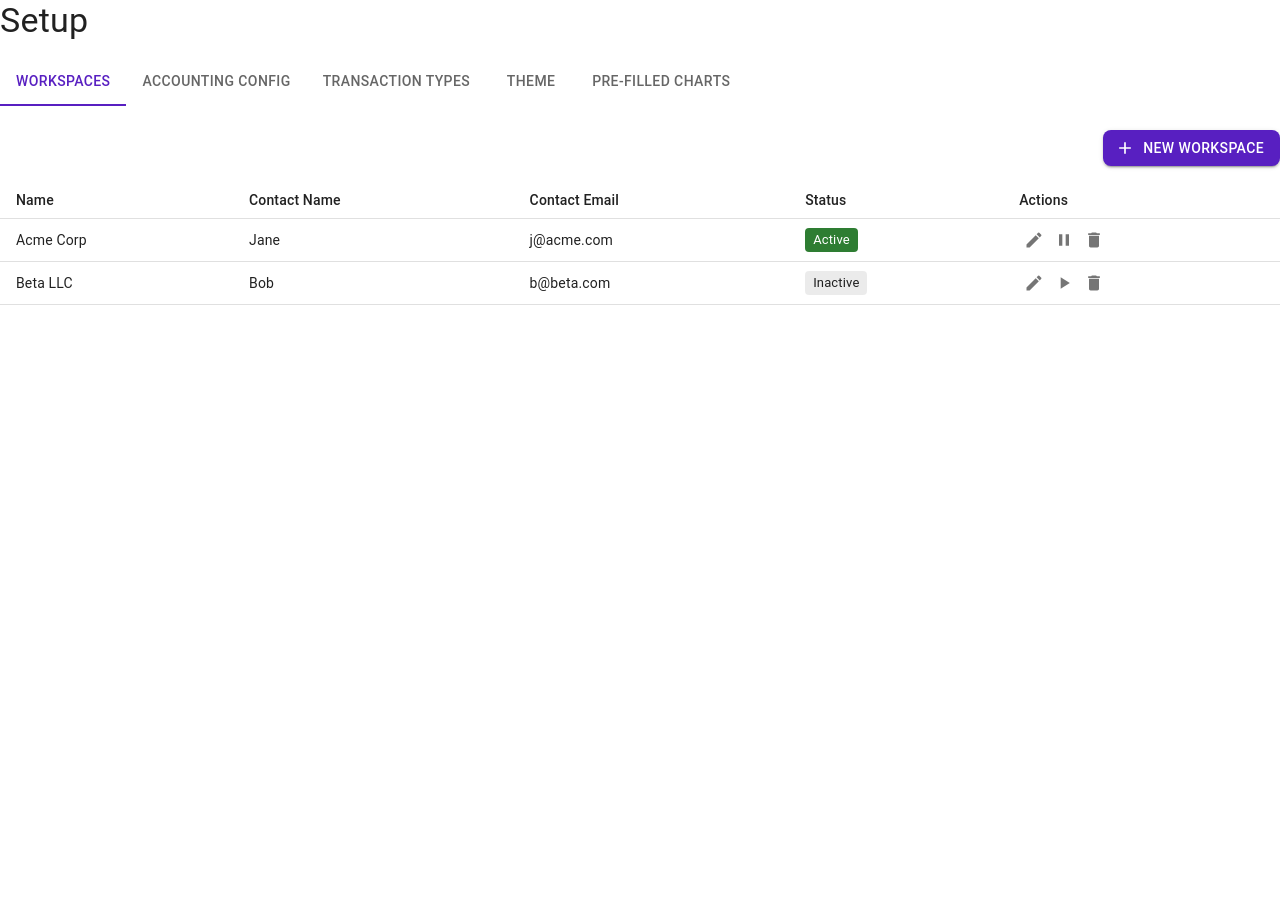
Test: SetupPage — Workspaces tab › opens create dialog when New Workspace is clicked
The image size is (1280, 900).
Click the button with test id "new-workspace-btn" at (1192, 148), box left=1103, top=130, right=1279, bottom=166
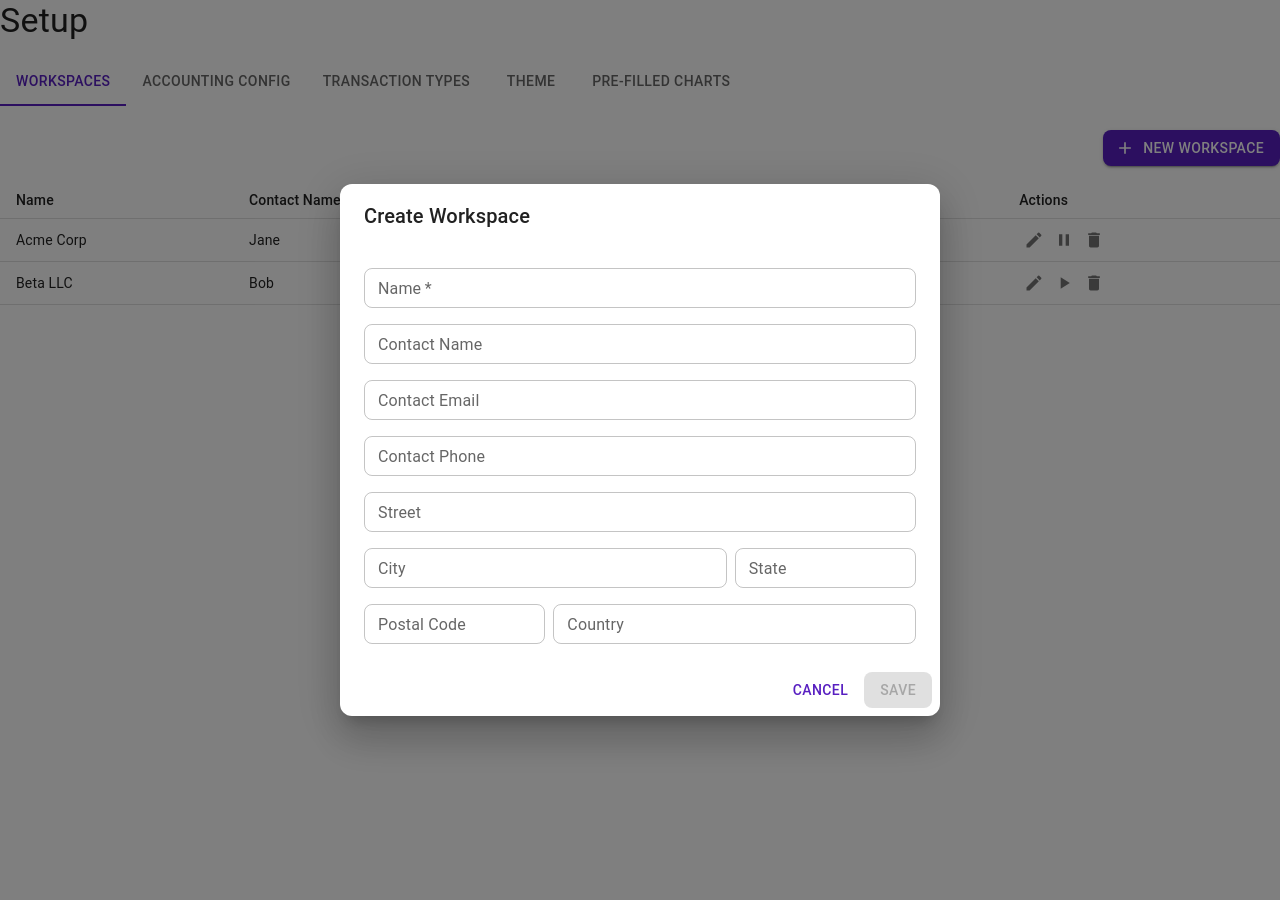
Result: the element with test id "workspace-form-dialog" is shown
